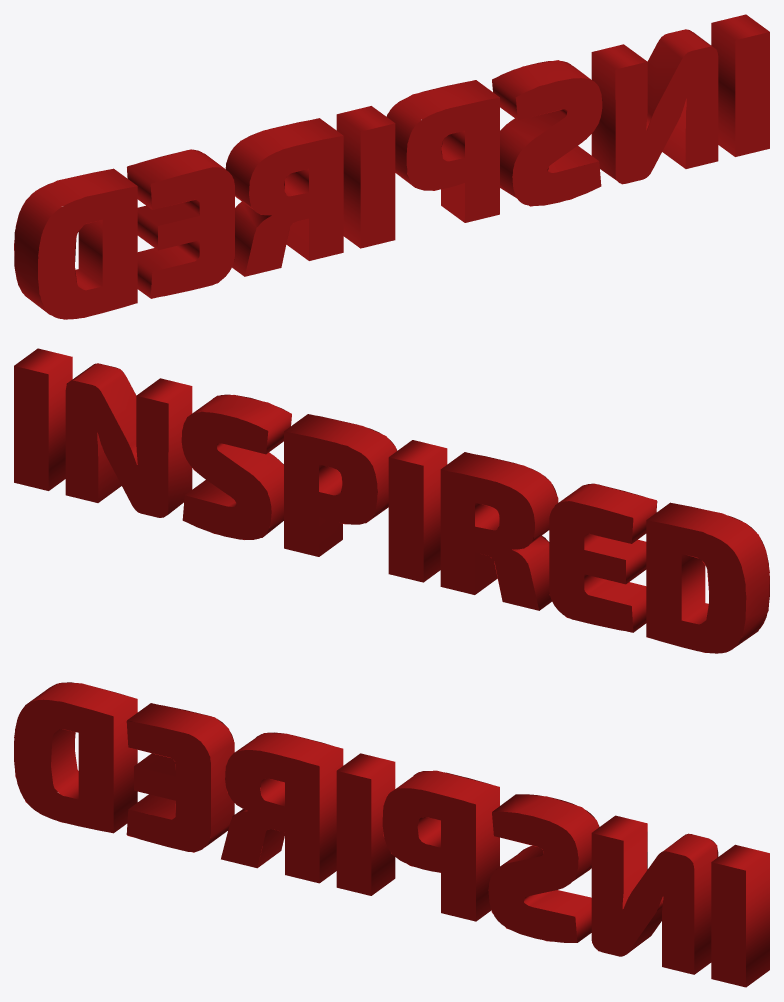
Rendered from inspired.fbx.
3 renders of one model, top to bottom at view 1: azimuth 30°, elevation 25°; view 2: azimuth 150°, elevation 25°; view 3: azimuth 330°, elevation 25°, orthographic.
Parts seen in each view (by area): view 1: Text; view 2: Text; view 3: Text.
Boxes of the visible parts, bbox=[...] form: Text: bbox=[14, 14, 769, 319]; Text: bbox=[14, 348, 769, 653]; Text: bbox=[14, 682, 769, 987].
Size of the model in its own units: 14.17 by 2.25 by 0.8.
